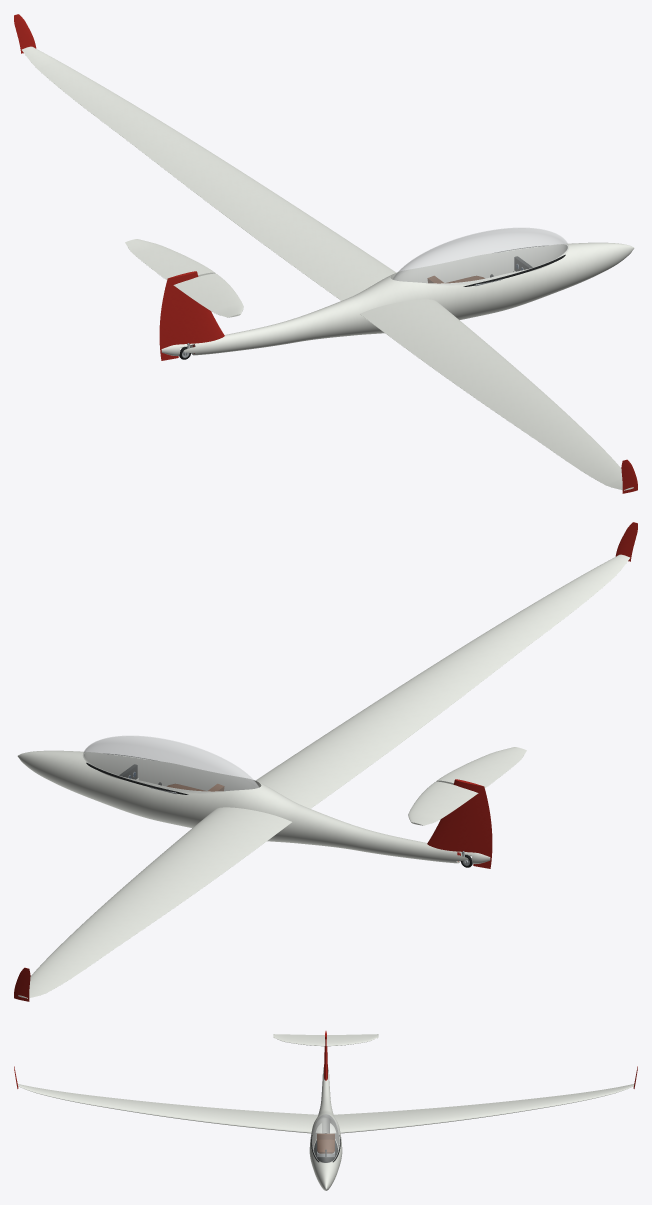
The model's file is sailplane.glb.
3 views of the same model, one above another, from view 1: azimuth 30°, elevation 25°; view 2: azimuth 150°, elevation 25°; view 3: azimuth 270°, elevation 25° (orthographic). The views are drawn at different scales.
Parts seen in each view (by area): view 1: Glider finite high-aspect wing1, Glider sculpted fuselage with open cockpit, Glider finite high-aspect wing-1, Glider finite curved transparent canopy, Glider swept vertical tail with real wheel well, Glider finite T-tail plane-1, Glider finite T-tail plane1, Glider raised finite cockpit coaming; view 2: Glider finite high-aspect wing-1, Glider sculpted fuselage with open cockpit, Glider finite high-aspect wing1, Glider finite curved transparent canopy, Glider swept vertical tail with real wheel well, Glider finite T-tail plane1, Glider finite T-tail plane-1, Glider raised finite cockpit coaming; view 3: Glider finite high-aspect wing1, Glider finite high-aspect wing-1, Glider sculpted fuselage with open cockpit, Glider finite curved transparent canopy, Glider finite T-tail plane1, Glider finite T-tail plane-1, Glider seat0 padded cushion.
Part boxes in pixels (x1,y1,x2,y2): Glider finite high-aspect wing1: (22, 46, 396, 300); Glider sculpted fuselage with open cockpit: (161, 242, 634, 355); Glider finite high-aspect wing-1: (360, 299, 633, 490); Glider finite curved transparent canopy: (393, 228, 568, 285); Glider swept vertical tail with real wheel well: (159, 271, 224, 360); Glider finite T-tail plane-1: (173, 273, 243, 317); Glider finite T-tail plane1: (125, 239, 215, 280); Glider raised finite cockpit coaming: (401, 246, 567, 282); Glider finite high-aspect wing-1: (255, 554, 629, 808); Glider sculpted fuselage with open cockpit: (17, 750, 490, 863); Glider finite high-aspect wing1: (18, 807, 291, 998); Glider finite curved transparent canopy: (83, 736, 258, 793); Glider swept vertical tail with real wheel well: (427, 779, 492, 868); Glider finite T-tail plane1: (408, 781, 478, 825); Glider finite T-tail plane-1: (436, 747, 526, 788); Glider raised finite cockpit coaming: (84, 754, 250, 790); Glider finite high-aspect wing1: (330, 1084, 635, 1133); Glider finite high-aspect wing-1: (16, 1084, 321, 1133); Glider sculpted fuselage with open cockpit: (309, 1067, 342, 1190); Glider finite curved transparent canopy: (312, 1114, 339, 1162); Glider finite T-tail plane1: (326, 1034, 378, 1046); Glider finite T-tail plane-1: (273, 1034, 325, 1046); Glider seat0 padded cushion: (317, 1139, 334, 1153).
Size of the model in its own units: 6.81 by 1.72 by 15.13.
10 materials, 10 textured.
